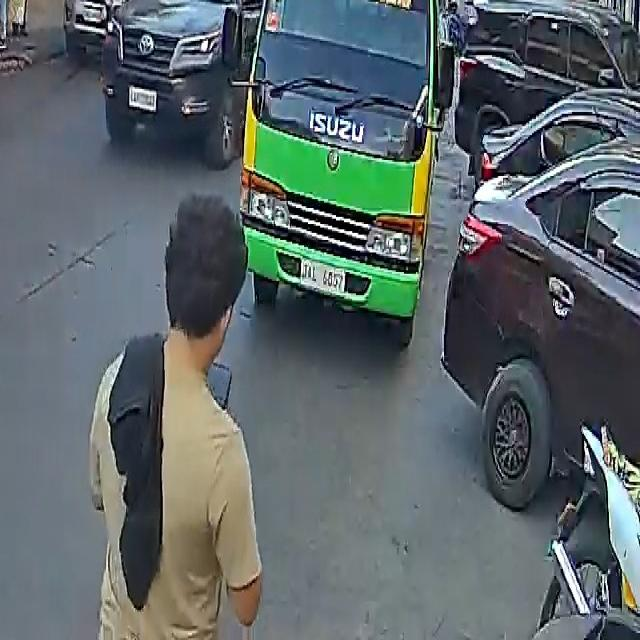car: (442, 98, 640, 519), (444, 0, 640, 178), (97, 0, 270, 151)
